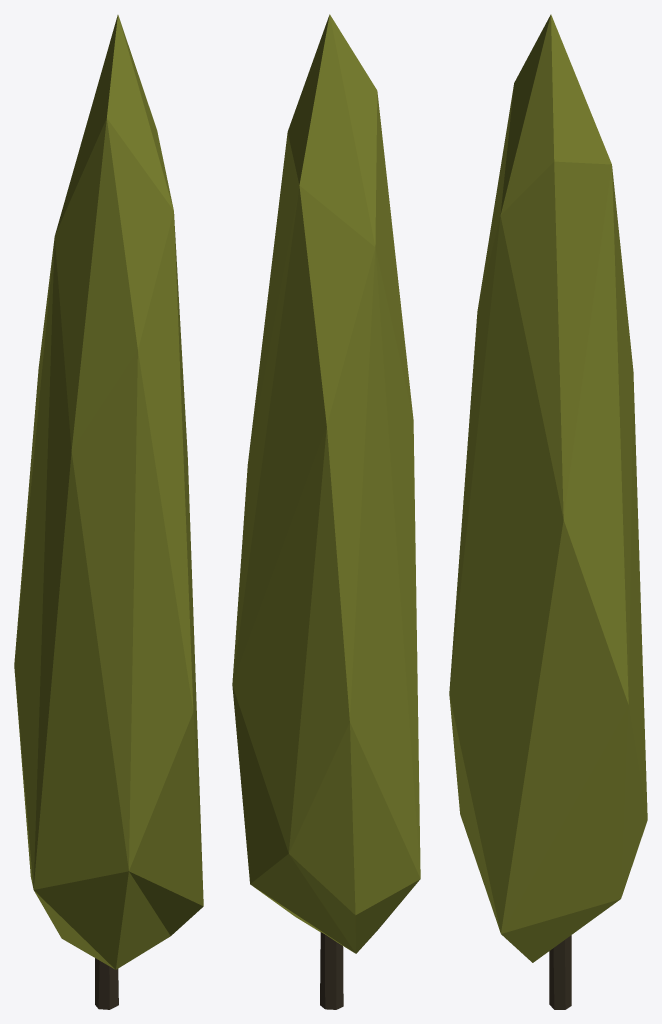
Rendered from roman_tree_cyprus_tall.fbx.
3 renders of one model, left to right at view 1: azimuth 30°, elevation 25°; view 2: azimuth 150°, elevation 25°; view 3: azimuth 270°, elevation 25°, orthographic.
Parts seen in each view (by area): view 1: Icosphere.001; view 2: Icosphere.001; view 3: Icosphere.001.
Part boxes in pixels (x1,y1,x2,y2): Icosphere.001: (14, 15, 203, 1009); Icosphere.001: (232, 14, 420, 1009); Icosphere.001: (449, 14, 647, 1009).
Size of the model in its own units: 1.36 by 7.84 by 1.42.
